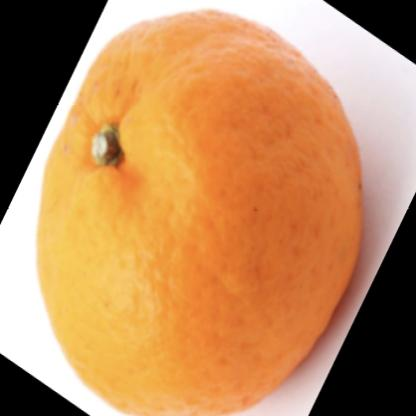fresh: (36, 8, 363, 416)
